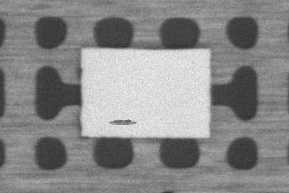DIE_INK: (107, 118, 138, 126)
